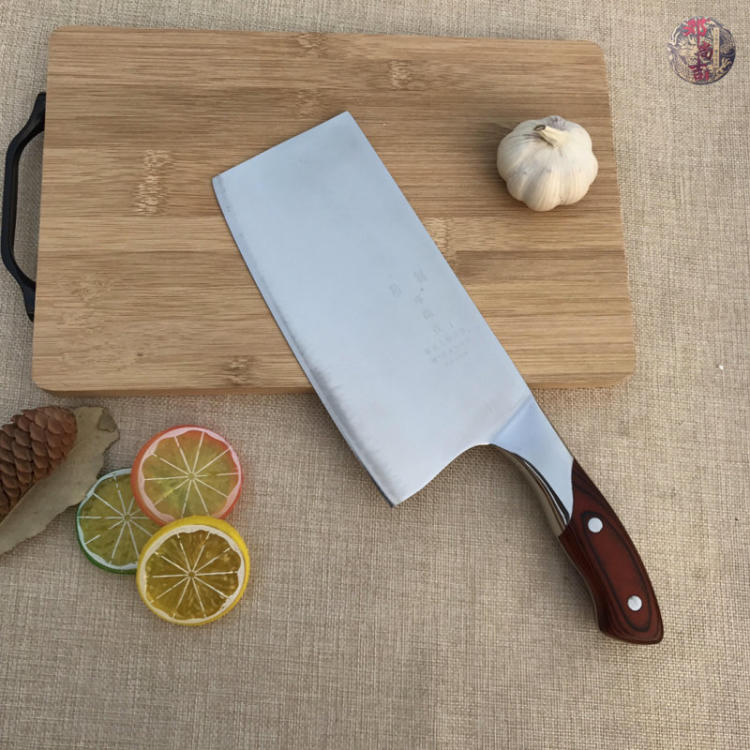knief: (195, 136, 657, 634)
